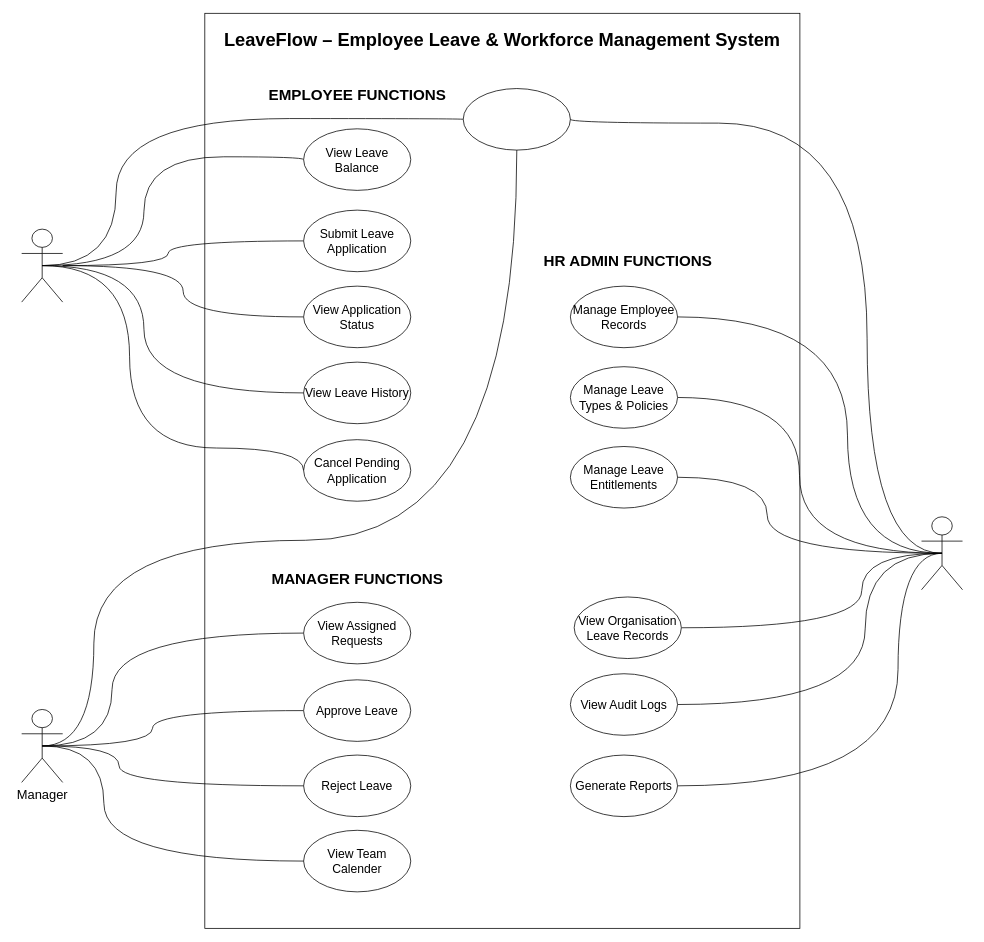
Some shapes in this 984 by 942 pixel diagram are drawn without their labels. The centre of each missing label's shape, as x and y in pixels:
Employee: (x=42, y=265)
HR Admin: (x=942, y=553)
Log In: (x=516, y=119)
